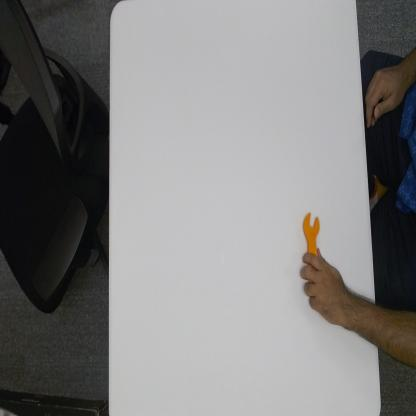Hand: (297, 247, 359, 332)
Screwdriver: (301, 211, 322, 253)
